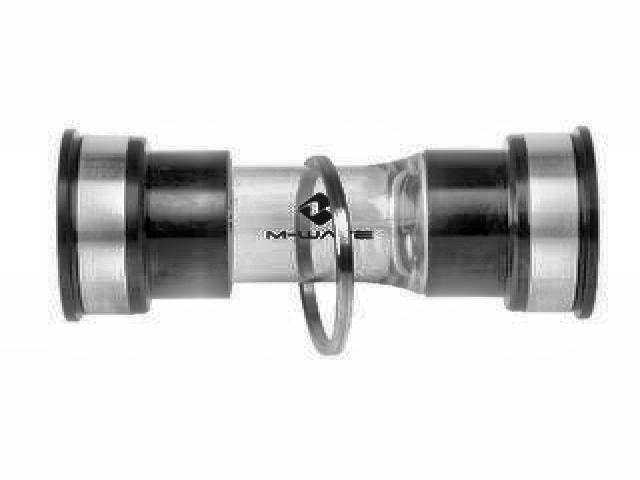bottom_bracket: (53, 121, 603, 324)
